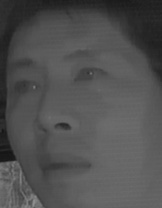eye: (72, 63, 109, 86), (9, 75, 45, 97)
mouth: (36, 150, 92, 183)
